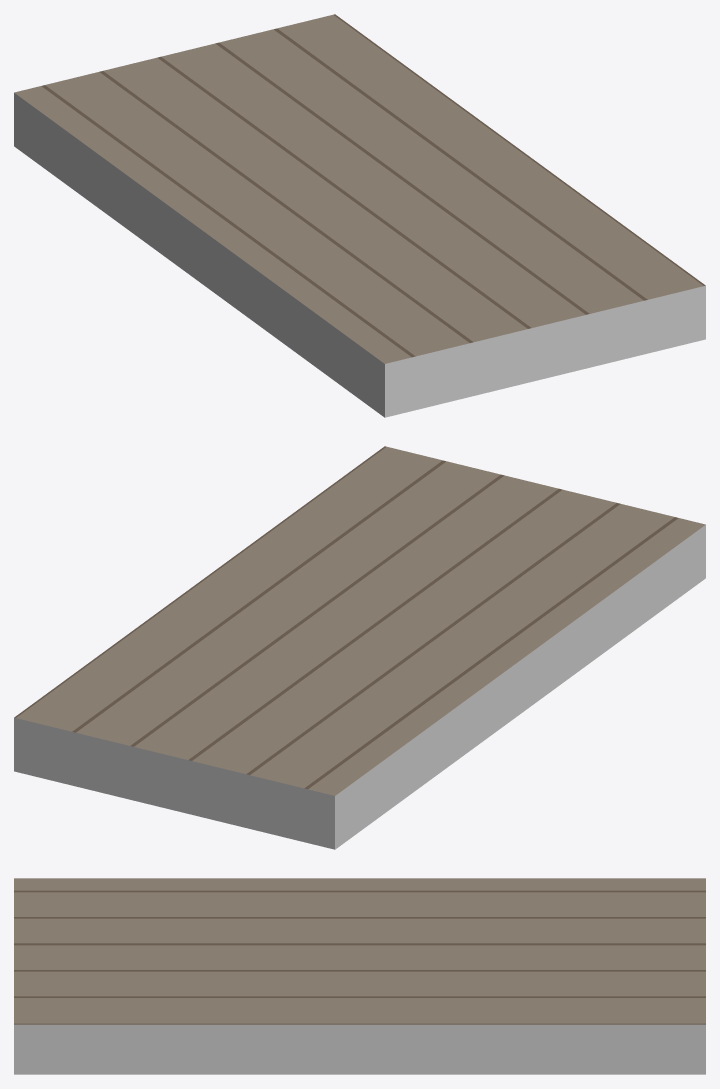
File: Floor5_02.fbx
3 views of the same model, one above another, from view 1: azimuth 30°, elevation 25°; view 2: azimuth 150°, elevation 25°; view 3: azimuth 270°, elevation 25° (orthographic). The views are drawn at different scales.
Visible parts, largest first — view 1: Floor5_02; view 2: Floor5_02; view 3: Floor5_02.
Part boxes in pixels (bbox=[...]): Floor5_02: bbox=[14, 14, 705, 417]; Floor5_02: bbox=[14, 446, 705, 849]; Floor5_02: bbox=[14, 878, 705, 1074].
Bounding box in the file's own units: 125 × 20 × 250.
